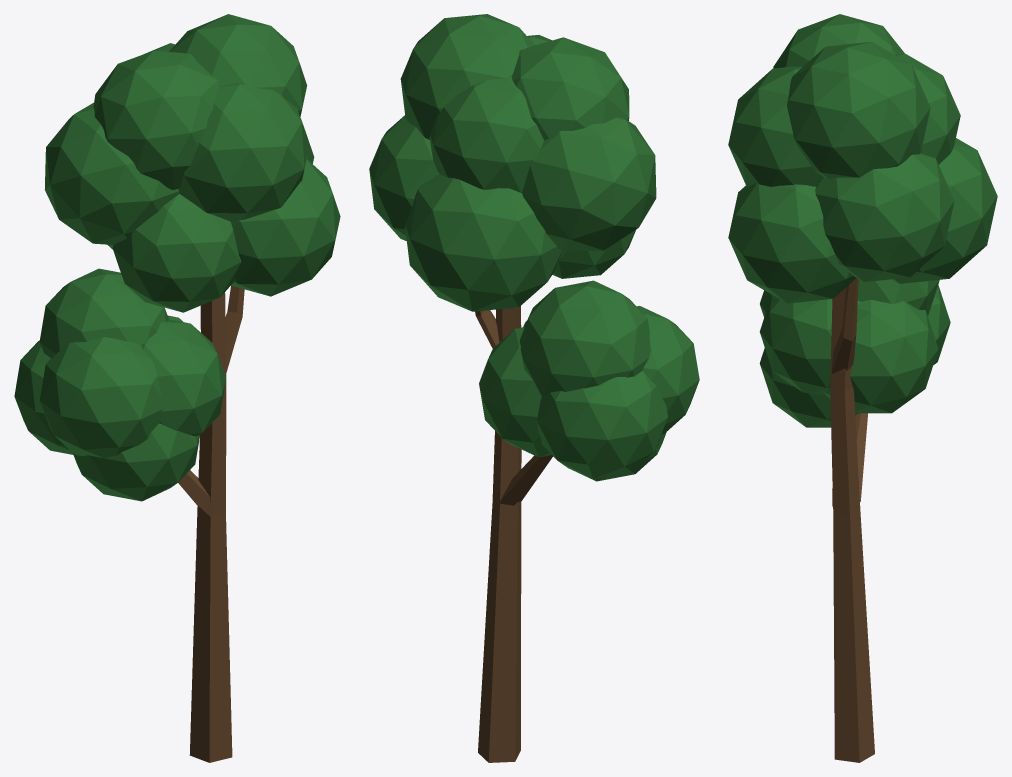
Rendered from tree.glb.
The picture shows the model from 3 angles, left to right: view 1: azimuth 30°, elevation 25°; view 2: azimuth 150°, elevation 25°; view 3: azimuth 270°, elevation 25°; orthographic projection.
Parts seen in each view (by area): view 1: tree; view 2: tree; view 3: tree.
Part boxes in pixels (x1,y1,x2,y2): tree: (14,14,340,762); tree: (369,14,699,762); tree: (728,14,997,762).
Bounding box in the file's own units: 3.93 × 9.77 × 3.33.
